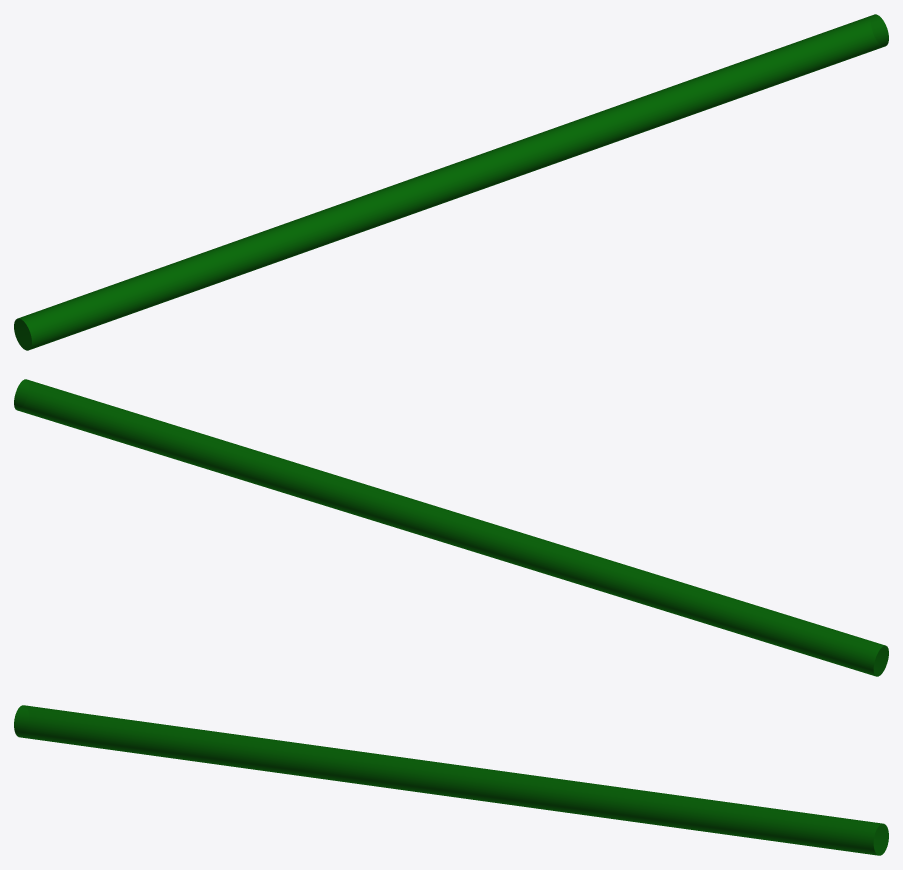
File: Event_108764385_jet_2.fbx
3 views of the same model, one above another, from view 1: azimuth 30°, elevation 25°; view 2: azimuth 150°, elevation 25°; view 3: azimuth 330°, elevation 25° (orthographic). The views are drawn at different scales.
Parts seen in each view (by area): view 1: Model; view 2: Model; view 3: Model.
Boxes of the visible parts, x1,y1,x2,y2 form: Model: (14, 14, 888, 350); Model: (14, 379, 888, 676); Model: (14, 705, 888, 855).
Size of the model in its own units: 1.2 by 0.1403 by 0.0837.
